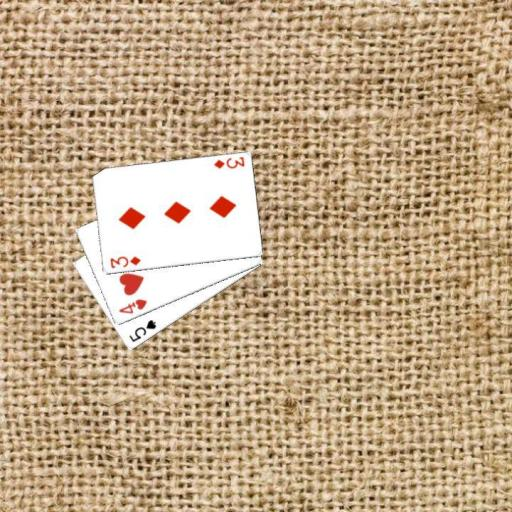3D: (107, 253, 142, 270), (211, 154, 246, 171)
4H: (116, 296, 148, 316)
5S: (126, 317, 158, 344)
